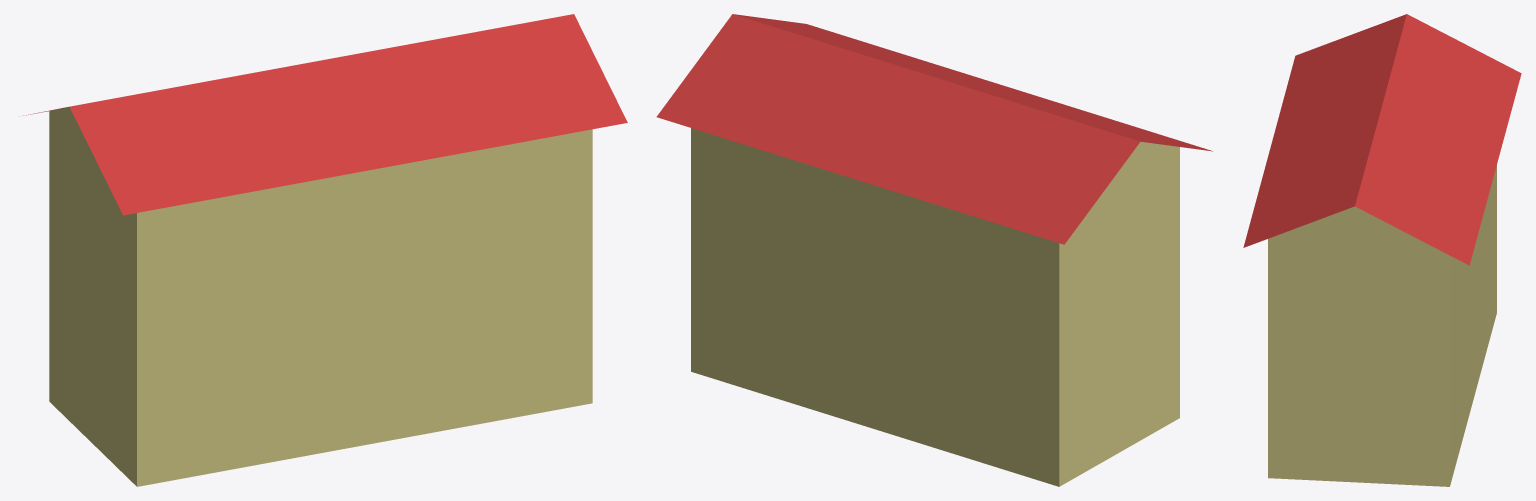
The picture shows the model from 3 angles, left to right: view 1: azimuth 30°, elevation 25°; view 2: azimuth 150°, elevation 25°; view 3: azimuth 270°, elevation 25°; orthographic projection. The views are drawn at different scales.
Bounding box in the file's own units: 10.74 × 6.22 × 7.04.
